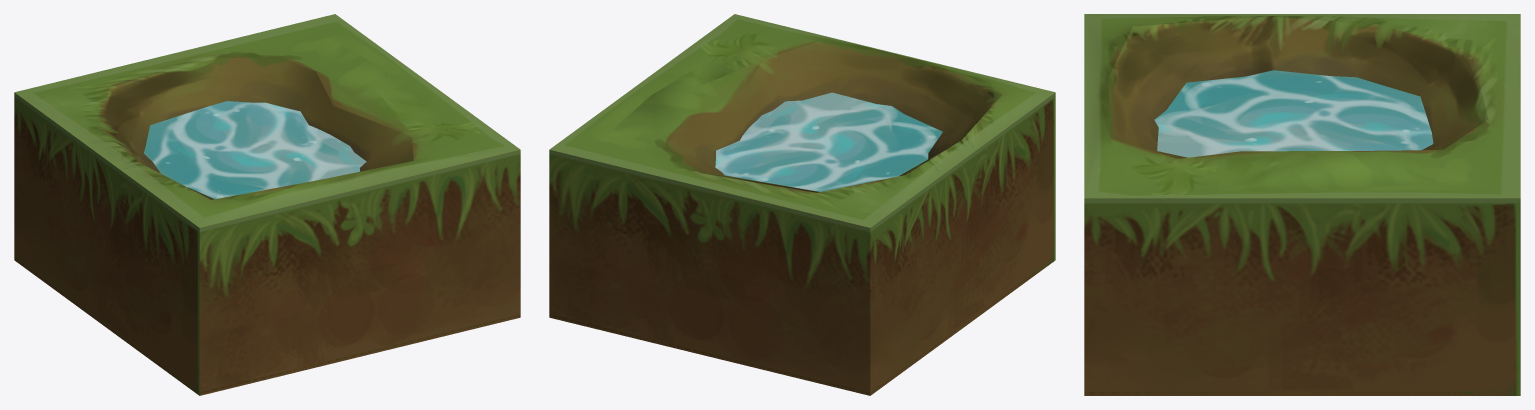
File: tile_Pond.FBX
3 views of the same model, side by side, from view 1: azimuth 30°, elevation 25°; view 2: azimuth 150°, elevation 25°; view 3: azimuth 270°, elevation 25° (orthographic). The views are drawn at different scales.
Visible parts, largest first — view 1: Tile_Oasis; view 2: Tile_Oasis; view 3: Tile_Oasis.
Boxes of the visible parts, x1,y1,x2,y2 form: Tile_Oasis: (14, 14, 520, 395); Tile_Oasis: (549, 14, 1055, 395); Tile_Oasis: (1084, 14, 1520, 395).
Size of the model in its own units: 25.2 by 25.2 by 13.32.
